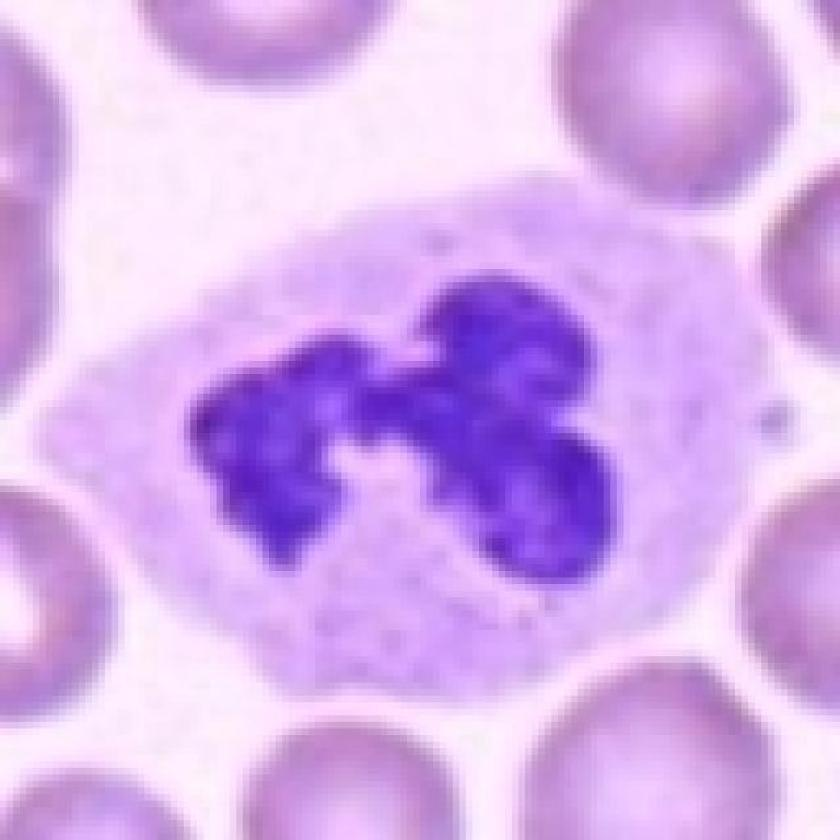neutrophil: (87, 122, 738, 729)
